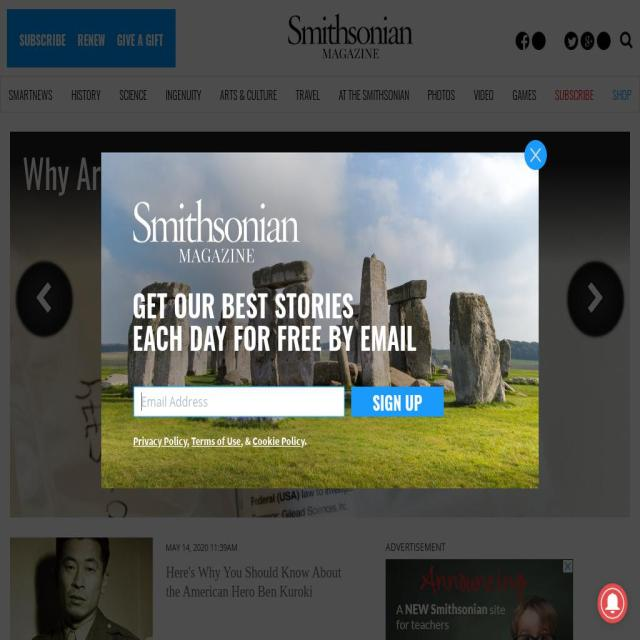button: (10, 132, 630, 518), (10, 536, 154, 640), (288, 1, 414, 59), (16, 262, 72, 338), (568, 262, 624, 338), (352, 386, 444, 416), (338, 76, 409, 112), (219, 76, 277, 112), (8, 76, 52, 112), (165, 76, 201, 112), (555, 78, 594, 110), (70, 76, 100, 112), (119, 76, 147, 112), (428, 76, 456, 112), (295, 76, 320, 112), (512, 76, 537, 112), (474, 76, 494, 112), (524, 139, 547, 170), (612, 78, 632, 110), (618, 31, 634, 53), (516, 32, 530, 50), (532, 32, 546, 50), (548, 32, 562, 50), (564, 32, 578, 50), (597, 32, 611, 50)
field: (134, 386, 344, 416)
heading: (22, 146, 618, 198), (166, 562, 342, 600)
iframe: (386, 559, 574, 640)
image: (10, 132, 630, 518), (10, 536, 154, 640), (132, 198, 302, 264), (598, 584, 628, 624), (528, 143, 544, 166)
link: (133, 432, 188, 448), (253, 432, 305, 448), (191, 432, 241, 448), (548, 32, 563, 50), (532, 31, 546, 50), (620, 34, 632, 48), (597, 36, 611, 46), (567, 38, 577, 48), (520, 36, 528, 48)
text: (132, 312, 416, 360), (132, 280, 354, 328), (163, 536, 359, 558), (20, 30, 66, 50), (117, 30, 163, 50), (555, 85, 594, 103), (77, 30, 105, 50), (241, 432, 253, 448), (187, 432, 192, 448), (304, 432, 308, 448)
